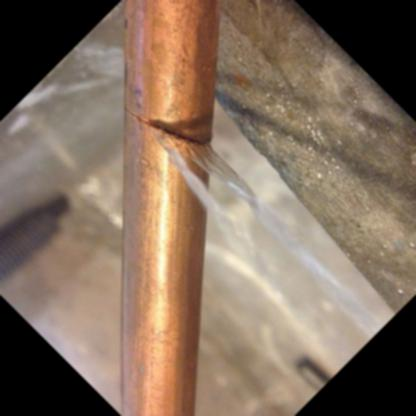burst: (145, 112, 236, 191)
